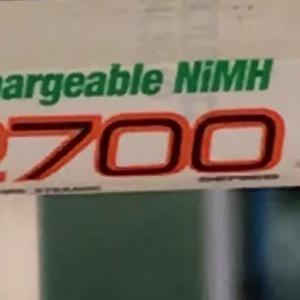NIMH: (164, 49, 283, 103)
